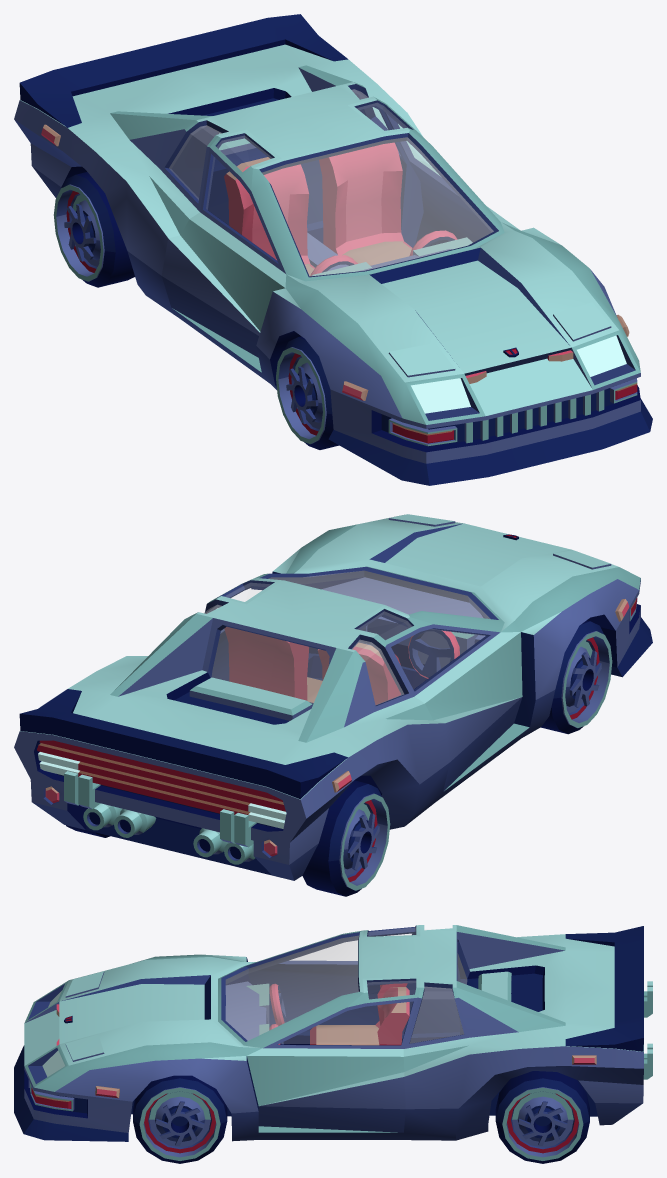
Rendered from CarLowPoly.gltf.
The picture shows the model from 3 angles, top to bottom: view 1: azimuth 30°, elevation 25°; view 2: azimuth 150°, elevation 25°; view 3: azimuth 270°, elevation 25°; orthographic projection. The views are drawn at different scales.
Parts seen in each view (by area): view 1: 03_Body, 02_WheelsBack, 01_WheelsFront_Right; view 2: 03_Body, 02_WheelsBack, 01_WheelsFront_Right; view 3: 03_Body, 02_WheelsBack, 01_WheelsFront_Left.
Part boxes in pixels (bbox=[...]): 03_Body: bbox=[14, 14, 652, 485]; 02_WheelsBack: bbox=[53, 172, 134, 287]; 01_WheelsFront_Right: bbox=[276, 336, 338, 449]; 03_Body: bbox=[14, 514, 652, 880]; 02_WheelsBack: bbox=[66, 780, 390, 896]; 01_WheelsFront_Right: bbox=[541, 620, 612, 734]; 03_Body: bbox=[14, 925, 652, 1141]; 02_WheelsBack: bbox=[495, 1071, 589, 1163]; 01_WheelsFront_Left: bbox=[133, 1075, 227, 1163].
Size of the model in its own units: 1.33 by 0.8045 by 3.03.
Materials: 2 (1 with a texture image).
